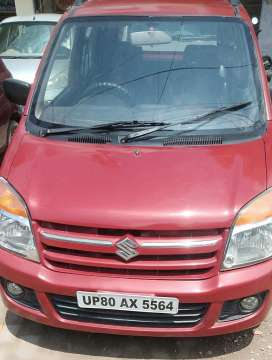license_plate: (79, 293, 178, 315)
